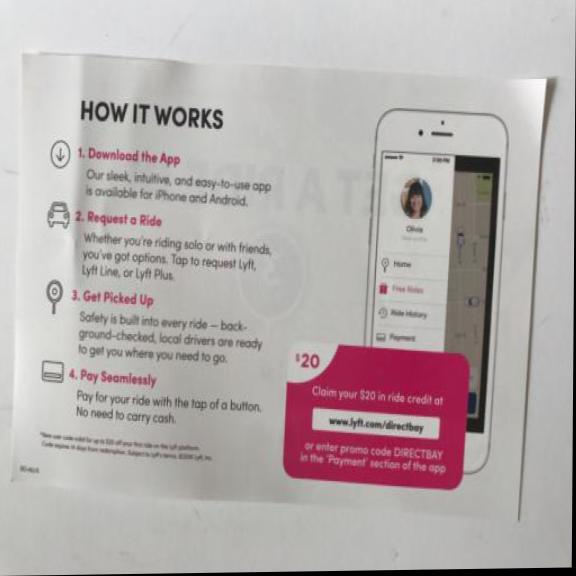Kertas: (14, 32, 558, 535)
